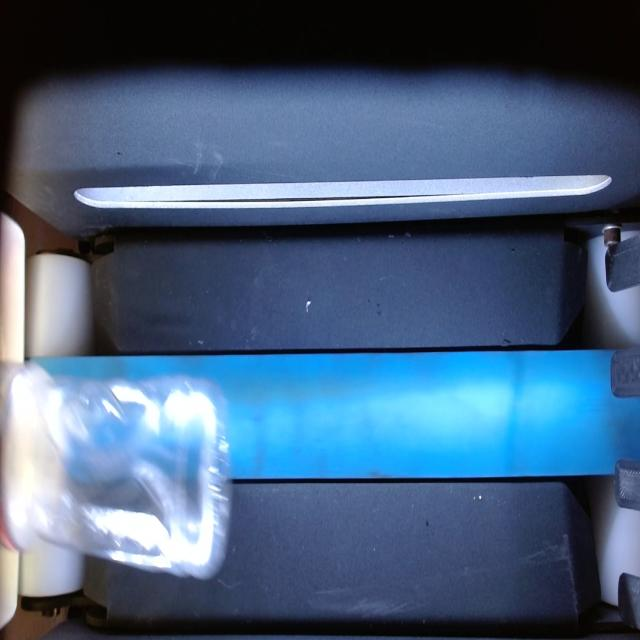bottom: (0, 362, 231, 578)
